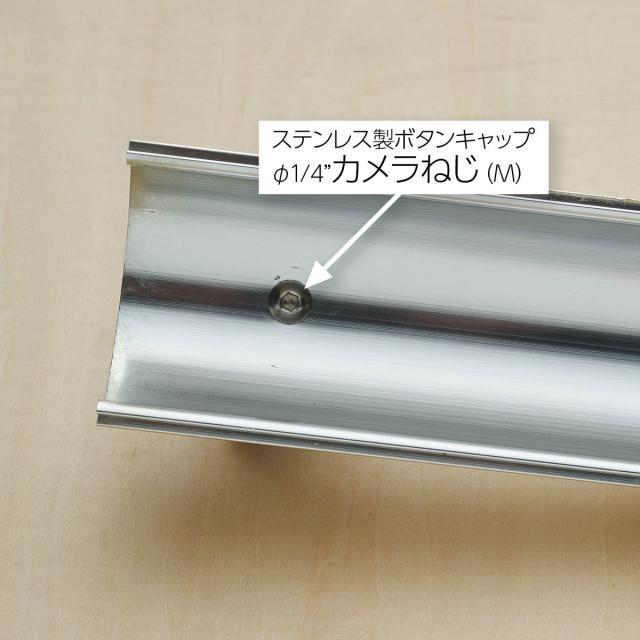hidden camera: (276, 286, 304, 313)
